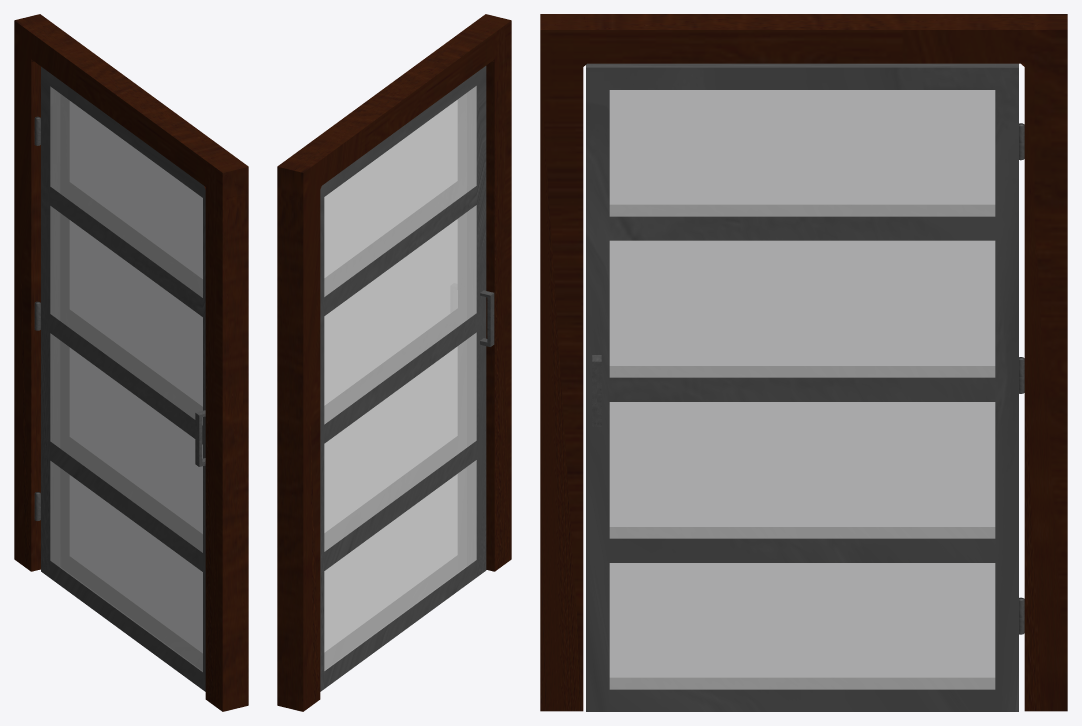
File: minimilist_glass_door.glb
3 views of the same model, side by side, from view 1: azimuth 30°, elevation 25°; view 2: azimuth 150°, elevation 25°; view 3: azimuth 270°, elevation 25° (orthographic). The views are drawn at different scales.
Parts seen in each view (by area): view 1: Doror_Door, Door_Frame; view 2: Doror_Door, Door_Frame; view 3: Doror_Door, Door_Frame.
Part boxes in pixels (x1,y1,x2,y2): Doror_Door: (34,66,205,691); Door_Frame: (14,14,248,711); Doror_Door: (320,66,494,691); Door_Frame: (277,14,511,711); Doror_Door: (586,63,1024,711); Door_Frame: (540,14,1067,711).
Bounding box in the file's own units: 0.6839 × 8.74 × 6.13.
3 materials, 3 textured.
